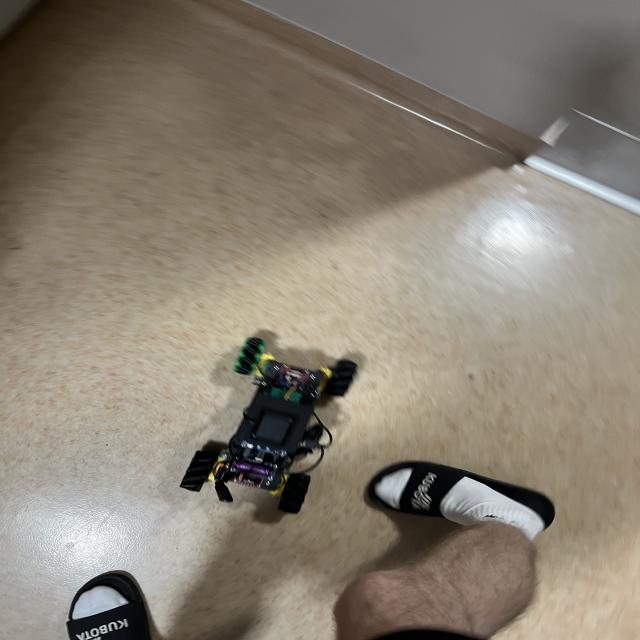robot: (180, 337, 357, 513)
